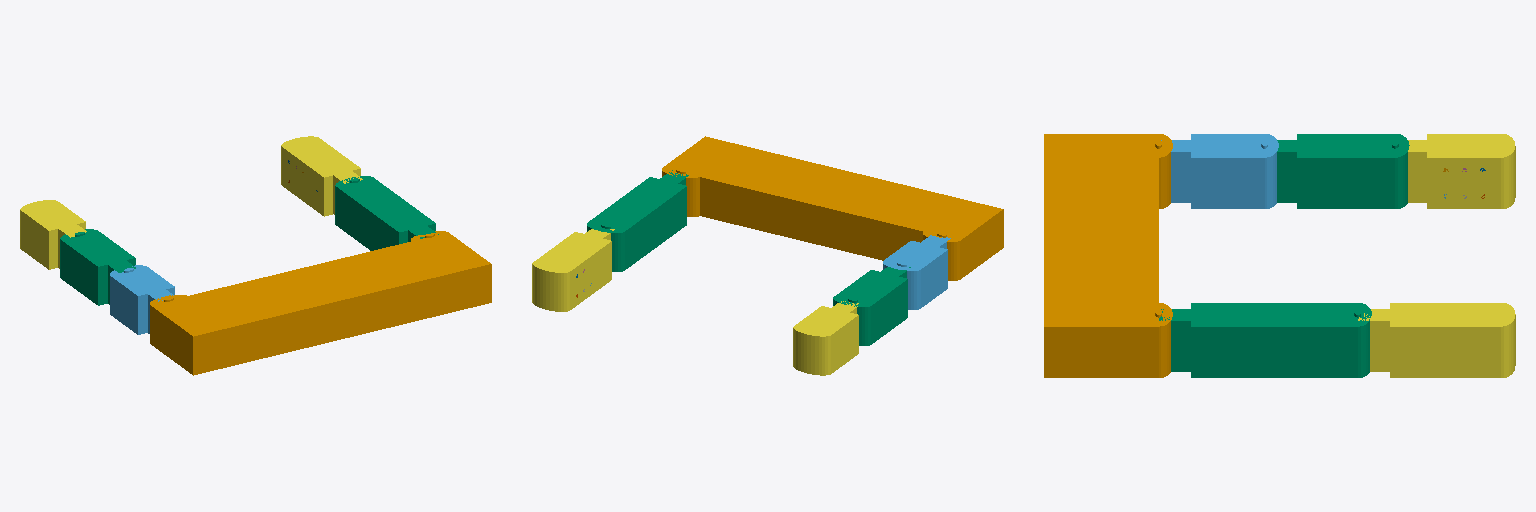
robot.urdf — 3v2_test_hand:
<?xml version="1.0" ?>
<robot name="3v2_test_hand">

    <link name="body_palm_lpinvrpin">
        <visual>
            <origin rpy="0 1.5707963267948966 0" xyz="0 0 0"/>
            <geometry>
                <mesh filename="obj_files/body_palm_lpinvrpin.obj" scale="1 1 1"/>
            </geometry>
        </visual>
        <collision>
            <geometry>
                <mesh filename="obj_files/body_palm_lpinvrpin_collision.obj" scale="1 1 1"/>
            </geometry>
        </collision>
    </link>

    <joint name="l_prox_pin" type="revolute">
        <parent link="body_palm_lpinvrpin"/>
        <child link="body_l_prox_pinvpin"/>
        <origin rpy="0 0 0" xyz="-0.07 0.04 0"/>
        <axis xyz="0 0 1"/>
        <limit effort="1000.0" lower="-3.14" upper="3.14" velocity="0.5"/>
    </joint>

    <link name="body_l_prox_pinvpin">
        <visual>
            <origin rpy="0 1.5707963267948966 0" xyz="0 0 0"/>
            <geometry>
                <mesh filename="obj_files/body_l_prox_pinvpin.obj" scale="1 1 1"/>
            </geometry>
        </visual>
        <collision>
            <geometry>
                <mesh filename="obj_files/body_l_prox_pinvpin_collision.obj" scale="1 1 1"/>
            </geometry>
        </collision>
    </link>

    <joint name="l_intermediate_pin" type="revolute">
        <parent link="body_l_prox_pinvpin"/>
        <child link="body_l_intermediate_pinvpin"/>
        <origin rpy="0 0 0" xyz="0 0.037125 0"/>
        <axis xyz="0 0 1"/>
        <limit effort="1000.0" lower="-3.14" upper="3.14" velocity="0.5"/>
    </joint>

    <link name="body_l_intermediate_pinvpin">
        <visual>
            <origin rpy="0 1.5707963267948966 0" xyz="0 0 0"/>
            <geometry>
                <mesh filename="obj_files/body_l_intermediate_pinvpin.obj" scale="1 1 1"/>
            </geometry>
        </visual>
        <collision>
            <geometry>
                <mesh filename="obj_files/body_l_intermediate_pinvpin_collision.obj" scale="1 1 1"/>
            </geometry>
        </collision>
    </link>

    <joint name="l_distal_pin" type="revolute">
        <parent link="body_l_intermediate_pinvpin"/>
        <child link="body_l_distal_pinvround"/>
        <origin rpy="0 0 0" xyz="0 0.04575 0"/>
        <axis xyz="0 0 1"/>
        <limit effort="1000.0" lower="-3.14" upper="3.14" velocity="0.5"/>
    </joint>

    <link name="body_l_distal_pinvround">
        <visual>
            <origin rpy="0 1.5707963267948966 0" xyz="0 0 0"/>
            <geometry>
                <mesh filename="obj_files/body_l_distal_pinvround.obj" scale="1 1 1"/>
            </geometry>
        </visual>
        <collision>
            <geometry>
                <mesh filename="obj_files/body_l_distal_pinvround_collision.obj" scale="1 1 1"/>
            </geometry>
        </collision>
    </link>

    <joint name="l_sensor_0" type="fixed">
        <parent link="body_l_distal_pinvround"/>
        <child link="l_sensor_0"/>
        <origin rpy="0 0 0" xyz="0.01 0.03065625 0.005"/>
        <axis xyz="0 0 0"/>
        <limit effort="1000.0" lower="-3.14" upper="3.14" velocity="0.5"/>
    </joint>

    <link name="l_sensor_0">
        <visual>
            <origin rpy="0 0 0" xyz="0 0 0"/>
            <geometry>
                <mesh filename="obj_files/sensor.obj" scale="1 1 1"/>
            </geometry>
        </visual>
        <collision>
            <geometry>
                <mesh filename="obj_files/sensor_collision.obj" scale="1 1 1"/>
            </geometry>
        </collision>
    </link>

    <joint name="l_sensor_1" type="fixed">
        <parent link="body_l_distal_pinvround"/>
        <child link="l_sensor_1"/>
        <origin rpy="0 0 0" xyz="0.01 0.03065625 -0.005"/>
        <axis xyz="0 0 0"/>
        <limit effort="1000.0" lower="-3.14" upper="3.14" velocity="0.5"/>
    </joint>

    <link name="l_sensor_1">
        <visual>
            <origin rpy="0 0 0" xyz="0 0 0"/>
            <geometry>
                <mesh filename="obj_files/sensor.obj" scale="1 1 1"/>
            </geometry>
        </visual>
        <collision>
            <geometry>
                <mesh filename="obj_files/sensor_collision.obj" scale="1 1 1"/>
            </geometry>
        </collision>
    </link>

    <joint name="l_sensor_2" type="fixed">
        <parent link="body_l_distal_pinvround"/>
        <child link="l_sensor_2"/>
        <origin rpy="0 0 0" xyz="0.01 0.0241875 0.005"/>
        <axis xyz="0 0 0"/>
        <limit effort="1000.0" lower="-3.14" upper="3.14" velocity="0.5"/>
    </joint>

    <link name="l_sensor_2">
        <visual>
            <origin rpy="0 0 0" xyz="0 0 0"/>
            <geometry>
                <mesh filename="obj_files/sensor.obj" scale="1 1 1"/>
            </geometry>
        </visual>
        <collision>
            <geometry>
                <mesh filename="obj_files/sensor_collision.obj" scale="1 1 1"/>
            </geometry>
        </collision>
    </link>

    <joint name="l_sensor_3" type="fixed">
        <parent link="body_l_distal_pinvround"/>
        <child link="l_sensor_3"/>
        <origin rpy="0 0 0" xyz="0.01 0.0241875 -0.005"/>
        <axis xyz="0 0 0"/>
        <limit effort="1000.0" lower="-3.14" upper="3.14" velocity="0.5"/>
    </joint>

    <link name="l_sensor_3">
        <visual>
            <origin rpy="0 0 0" xyz="0 0 0"/>
            <geometry>
                <mesh filename="obj_files/sensor.obj" scale="1 1 1"/>
            </geometry>
        </visual>
        <collision>
            <geometry>
                <mesh filename="obj_files/sensor_collision.obj" scale="1 1 1"/>
            </geometry>
        </collision>
    </link>

    <joint name="l_sensor_4" type="fixed">
        <parent link="body_l_distal_pinvround"/>
        <child link="l_sensor_4"/>
        <origin rpy="0 0 0" xyz="0.01 0.017718750000000002 0.005"/>
        <axis xyz="0 0 0"/>
        <limit effort="1000.0" lower="-3.14" upper="3.14" velocity="0.5"/>
    </joint>

    <link name="l_sensor_4">
        <visual>
            <origin rpy="0 0 0" xyz="0 0 0"/>
            <geometry>
                <mesh filename="obj_files/sensor.obj" scale="1 1 1"/>
            </geometry>
        </visual>
        <collision>
            <geometry>
                <mesh filename="obj_files/sensor_collision.obj" scale="1 1 1"/>
            </geometry>
        </collision>
    </link>

    <joint name="l_sensor_5" type="fixed">
        <parent link="body_l_distal_pinvround"/>
        <child link="l_sensor_5"/>
        <origin rpy="0 0 0" xyz="0.01 0.017718750000000002 -0.005"/>
        <axis xyz="0 0 0"/>
        <limit effort="1000.0" lower="-3.14" upper="3.14" velocity="0.5"/>
    </joint>

    <link name="l_sensor_5">
        <visual>
            <origin rpy="0 0 0" xyz="0 0 0"/>
            <geometry>
                <mesh filename="obj_files/sensor.obj" scale="1 1 1"/>
            </geometry>
        </visual>
        <collision>
            <geometry>
                <mesh filename="obj_files/sensor_collision.obj" scale="1 1 1"/>
            </geometry>
        </collision>
    </link>

    <joint name="r_prox_pin" type="revolute">
        <parent link="body_palm_lpinvrpin"/>
        <child link="body_r_prox_pinvpin"/>
        <origin rpy="0 0 0" xyz="0.07 0.04 0"/>
        <axis xyz="0 0 1"/>
        <limit effort="1000.0" lower="-3.14" upper="3.14" velocity="0.5"/>
    </joint>

    <link name="body_r_prox_pinvpin">
        <visual>
            <origin rpy="0 1.5707963267948966 0" xyz="0 0 0"/>
            <geometry>
                <mesh filename="obj_files/body_r_prox_pinvpin.obj" scale="1 1 1"/>
            </geometry>
        </visual>
        <collision>
            <geometry>
                <mesh filename="obj_files/body_r_prox_pinvpin_collision.obj" scale="1 1 1"/>
            </geometry>
        </collision>
    </link>

    <joint name="r_distal_pin" type="revolute">
        <parent link="body_r_prox_pinvpin"/>
        <child link="body_r_distal_pinvround"/>
        <origin rpy="0 0 0" xyz="0 0.06974999999999999 0"/>
        <axis xyz="0 0 1"/>
        <limit effort="1000.0" lower="-3.14" upper="3.14" velocity="0.5"/>
    </joint>

    <link name="body_r_distal_pinvround">
        <visual>
            <origin rpy="0 1.5707963267948966 0" xyz="0 0 0"/>
            <geometry>
                <mesh filename="obj_files/body_r_distal_pinvround.obj" scale="1 1 1"/>
            </geometry>
        </visual>
        <collision>
            <geometry>
                <mesh filename="obj_files/body_r_distal_pinvround_collision.obj" scale="1 1 1"/>
            </geometry>
        </collision>
    </link>

    <joint name="r_sensor_0" type="fixed">
        <parent link="body_r_distal_pinvround"/>
        <child link="r_sensor_0"/>
        <origin rpy="0 0 0" xyz="-0.01 0.04375000000000001 0.005"/>
        <axis xyz="0 0 0"/>
        <limit effort="1000.0" lower="-3.14" upper="3.14" velocity="0.5"/>
    </joint>

    <link name="r_sensor_0">
        <visual>
            <origin rpy="0 0 3.141592653589793" xyz="0 0 0"/>
            <geometry>
                <mesh filename="obj_files/sensor.obj" scale="1 1 1"/>
            </geometry>
        </visual>
        <collision>
            <geometry>
                <mesh filename="obj_files/sensor_collision.obj" scale="1 1 1"/>
            </geometry>
        </collision>
    </link>

    <joint name="r_sensor_1" type="fixed">
        <parent link="body_r_distal_pinvround"/>
        <child link="r_sensor_1"/>
        <origin rpy="0 0 0" xyz="-0.01 0.04375000000000001 -0.005"/>
        <axis xyz="0 0 0"/>
        <limit effort="1000.0" lower="-3.14" upper="3.14" velocity="0.5"/>
    </joint>

    <link name="r_sensor_1">
        <visual>
            <origin rpy="0 0 3.141592653589793" xyz="0 0 0"/>
            <geometry>
                <mesh filename="obj_files/sensor.obj" scale="1 1 1"/>
            </geometry>
        </visual>
        <collision>
            <geometry>
                <mesh filename="obj_files/sensor_collision.obj" scale="1 1 1"/>
            </geometry>
        </collision>
    </link>

    <joint name="r_sensor_2" type="fixed">
        <parent link="body_r_distal_pinvround"/>
        <child link="r_sensor_2"/>
        <origin rpy="0 0 0" xyz="-0.01 0.03725000000000001 0.005"/>
        <axis xyz="0 0 0"/>
        <limit effort="1000.0" lower="-3.14" upper="3.14" velocity="0.5"/>
    </joint>

    <link name="r_sensor_2">
        <visual>
            <origin rpy="0 0 3.141592653589793" xyz="0 0 0"/>
            <geometry>
                <mesh filename="obj_files/sensor.obj" scale="1 1 1"/>
            </geometry>
        </visual>
        <collision>
            <geometry>
                <mesh filename="obj_files/sensor_collision.obj" scale="1 1 1"/>
            </geometry>
        </collision>
    </link>

    <joint name="r_sensor_3" type="fixed">
        <parent link="body_r_distal_pinvround"/>
        <child link="r_sensor_3"/>
        <origin rpy="0 0 0" xyz="-0.01 0.03725000000000001 -0.005"/>
        <axis xyz="0 0 0"/>
        <limit effort="1000.0" lower="-3.14" upper="3.14" velocity="0.5"/>
    </joint>

    <link name="r_sensor_3">
        <visual>
            <origin rpy="0 0 3.141592653589793" xyz="0 0 0"/>
            <geometry>
                <mesh filename="obj_files/sensor.obj" scale="1 1 1"/>
            </geometry>
        </visual>
        <collision>
            <geometry>
                <mesh filename="obj_files/sensor_collision.obj" scale="1 1 1"/>
            </geometry>
        </collision>
    </link>

    <joint name="r_sensor_4" type="fixed">
        <parent link="body_r_distal_pinvround"/>
        <child link="r_sensor_4"/>
        <origin rpy="0 0 0" xyz="-0.01 0.03075000000000001 0.005"/>
        <axis xyz="0 0 0"/>
        <limit effort="1000.0" lower="-3.14" upper="3.14" velocity="0.5"/>
    </joint>

    <link name="r_sensor_4">
        <visual>
            <origin rpy="0 0 3.141592653589793" xyz="0 0 0"/>
            <geometry>
                <mesh filename="obj_files/sensor.obj" scale="1 1 1"/>
            </geometry>
        </visual>
        <collision>
            <geometry>
                <mesh filename="obj_files/sensor_collision.obj" scale="1 1 1"/>
            </geometry>
        </collision>
    </link>

    <joint name="r_sensor_5" type="fixed">
        <parent link="body_r_distal_pinvround"/>
        <child link="r_sensor_5"/>
        <origin rpy="0 0 0" xyz="-0.01 0.03075000000000001 -0.005"/>
        <axis xyz="0 0 0"/>
        <limit effort="1000.0" lower="-3.14" upper="3.14" velocity="0.5"/>
    </joint>

    <link name="r_sensor_5">
        <visual>
            <origin rpy="0 0 3.141592653589793" xyz="0 0 0"/>
            <geometry>
                <mesh filename="obj_files/sensor.obj" scale="1 1 1"/>
            </geometry>
        </visual>
        <collision>
            <geometry>
                <mesh filename="obj_files/sensor_collision.obj" scale="1 1 1"/>
            </geometry>
        </collision>
    </link>

    <joint name="r_sensor_6" type="fixed">
        <parent link="body_r_distal_pinvround"/>
        <child link="r_sensor_6"/>
        <origin rpy="0 0 0" xyz="-0.01 0.024250000000000008 0.005"/>
        <axis xyz="0 0 0"/>
        <limit effort="1000.0" lower="-3.14" upper="3.14" velocity="0.5"/>
    </joint>

    <link name="r_sensor_6">
        <visual>
            <origin rpy="0 0 3.141592653589793" xyz="0 0 0"/>
            <geometry>
                <mesh filename="obj_files/sensor.obj" scale="1 1 1"/>
            </geometry>
        </visual>
        <collision>
            <geometry>
                <mesh filename="obj_files/sensor_collision.obj" scale="1 1 1"/>
            </geometry>
        </collision>
    </link>

    <joint name="r_sensor_7" type="fixed">
        <parent link="body_r_distal_pinvround"/>
        <child link="r_sensor_7"/>
        <origin rpy="0 0 0" xyz="-0.01 0.024250000000000008 -0.005"/>
        <axis xyz="0 0 0"/>
        <limit effort="1000.0" lower="-3.14" upper="3.14" velocity="0.5"/>
    </joint>

    <link name="r_sensor_7">
        <visual>
            <origin rpy="0 0 3.141592653589793" xyz="0 0 0"/>
            <geometry>
                <mesh filename="obj_files/sensor.obj" scale="1 1 1"/>
            </geometry>
        </visual>
        <collision>
            <geometry>
                <mesh filename="obj_files/sensor_collision.obj" scale="1 1 1"/>
            </geometry>
        </collision>
    </link>

    <joint name="r_sensor_8" type="fixed">
        <parent link="body_r_distal_pinvround"/>
        <child link="r_sensor_8"/>
        <origin rpy="0 0 0" xyz="-0.01 0.017750000000000005 0"/>
        <axis xyz="0 0 0"/>
        <limit effort="1000.0" lower="-3.14" upper="3.14" velocity="0.5"/>
    </joint>

    <link name="r_sensor_8">
        <visual>
            <origin rpy="0 0 3.141592653589793" xyz="0 0 0"/>
            <geometry>
                <mesh filename="obj_files/sensor.obj" scale="1 1 1"/>
            </geometry>
        </visual>
        <collision>
            <geometry>
                <mesh filename="obj_files/sensor_collision.obj" scale="1 1 1"/>
            </geometry>
        </collision>
    </link>

</robot>

--- What the picture shows (computed from the rendered views, not written in the file) ---
3 views of the same robot in one strip: view 1: azimuth 30°, elevation 25°; view 2: azimuth 150°, elevation 25°; view 3: azimuth 270°, elevation 25° (orthographic).
Robot: 3v2_test_hand — 21 links, 20 joints (5 revolute, 15 fixed); root link body_palm_lpinvrpin; default pose: all joints at 0.
Visible links, largest first — view 1: body_palm_lpinvrpin, body_r_prox_pinvpin, body_r_distal_pinvround, body_l_intermediate_pinvpin, body_l_distal_pinvround, body_l_prox_pinvpin; view 2: body_palm_lpinvrpin, body_r_prox_pinvpin, body_r_distal_pinvround, body_l_distal_pinvround, body_l_intermediate_pinvpin, body_l_prox_pinvpin; view 3: body_palm_lpinvrpin, body_r_prox_pinvpin, body_r_distal_pinvround, body_l_intermediate_pinvpin, body_l_distal_pinvround, body_l_prox_pinvpin.
Link boxes in pixels (x1,y1,x2,y2): body_palm_lpinvrpin: (150,231,491,375); body_r_prox_pinvpin: (335,176,438,250); body_r_distal_pinvround: (281,136,362,216); body_l_intermediate_pinvpin: (60,229,135,305); body_l_distal_pinvround: (20,200,86,269); body_l_prox_pinvpin: (110,265,174,334); body_palm_lpinvrpin: (662,136,1003,280); body_r_prox_pinvpin: (587,170,688,271); body_r_distal_pinvround: (532,229,614,311); body_l_distal_pinvround: (793,301,858,375); body_l_intermediate_pinvpin: (833,267,910,345); body_l_prox_pinvpin: (883,235,950,309); body_palm_lpinvrpin: (1044,134,1172,377); body_r_prox_pinvpin: (1159,303,1371,377); body_r_distal_pinvround: (1358,303,1515,377); body_l_intermediate_pinvpin: (1277,134,1409,208); body_l_distal_pinvround: (1408,134,1515,208); body_l_prox_pinvpin: (1161,134,1278,208).
Size in the robot's own frame: 0.16 by 0.165 by 0.022 metres.
Meshes: 7 distinct files referenced, 21 mesh visuals loaded (7 OBJ).